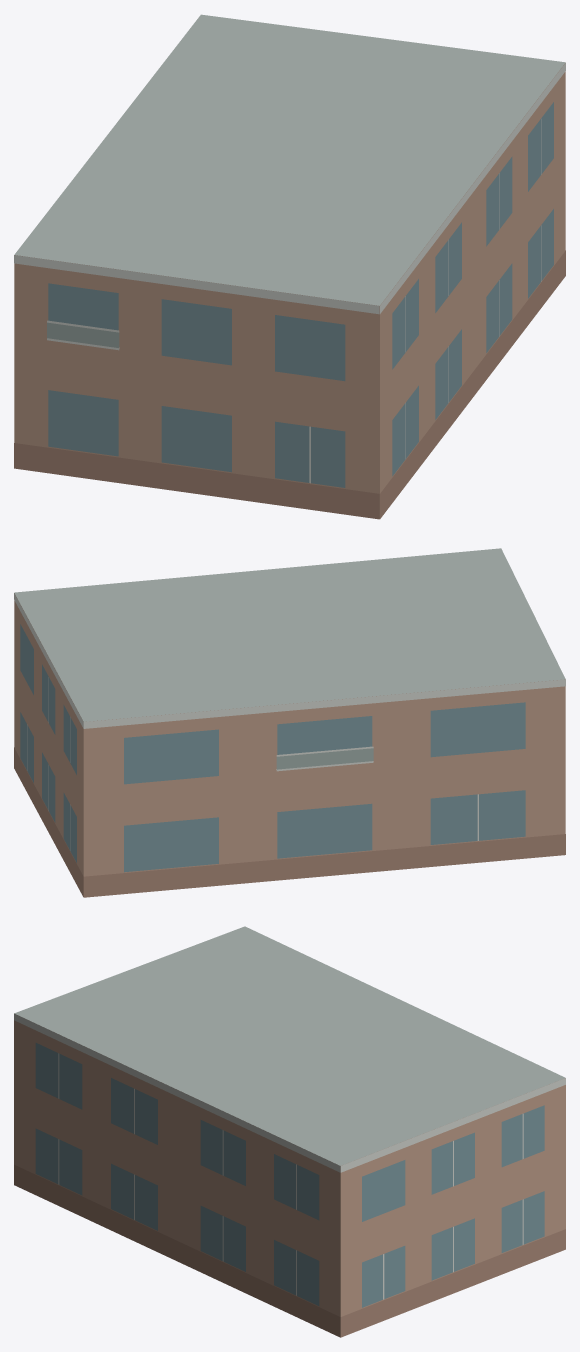
The model's file is survey-upis-32949965.glb.
The picture shows the model from 3 angles, top to bottom: view 1: azimuth 30°, elevation 25°; view 2: azimuth 150°, elevation 25°; view 3: azimuth 270°, elevation 25°; orthographic projection. The views are drawn at different scales.
Parts seen in each view (by area): view 1: survey-upis-32949965.tmp; view 2: survey-upis-32949965.tmp; view 3: survey-upis-32949965.tmp.
Part boxes in pixels (<box>): survey-upis-32949965.tmp: <box>14,14,565,519</box>; survey-upis-32949965.tmp: <box>14,548,565,897</box>; survey-upis-32949965.tmp: <box>14,926,565,1337</box>.
Size of the model in its own units: 18.28 by 6.1 by 17.78.
